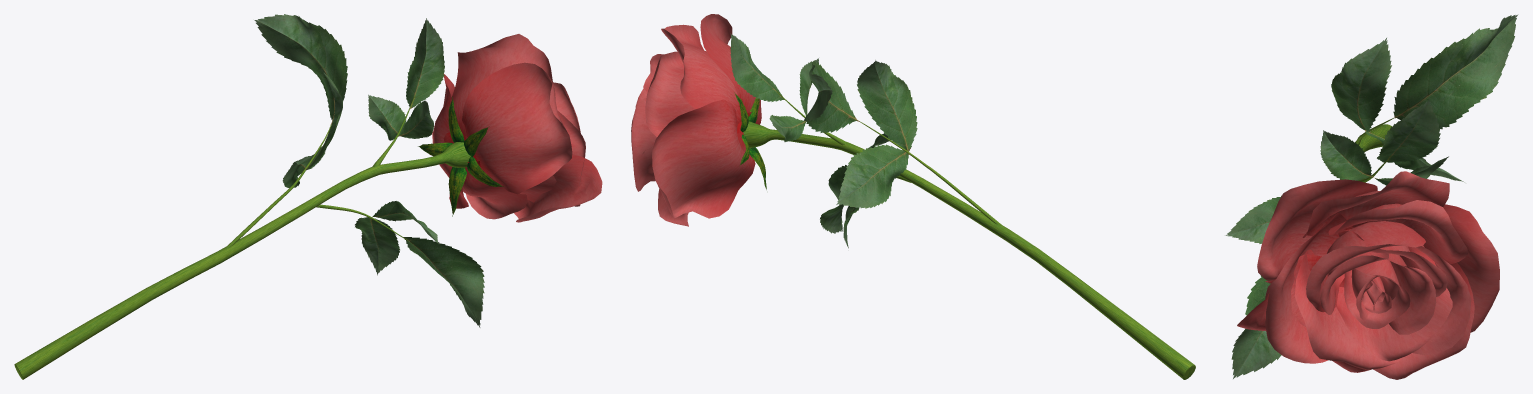
The model's file is SM_Rose.fbx.
The picture shows the model from 3 angles, left to right: view 1: azimuth 30°, elevation 25°; view 2: azimuth 150°, elevation 25°; view 3: azimuth 270°, elevation 25°; orthographic projection. The views are drawn at different scales.
Visible parts, largest first — view 1: RosePetals, RoseFloralLeaf, RoseRoot, RoseCalyx; view 2: RosePetals, RoseFloralLeaf, RoseRoot, RoseCalyx; view 3: RosePetals, RoseFloralLeaf, RoseRoot.
Boxes of the visible parts, x1,y1,x2,y2 form: RosePetals: (432,34,602,222); RoseFloralLeaf: (254,14,484,327); RoseRoot: (14,94,470,379); RoseCalyx: (418,96,503,216); RosePetals: (631,14,761,226); RoseFloralLeaf: (730,33,917,248); RoseRoot: (743,89,1195,379); RoseCalyx: (734,92,766,189); RosePetals: (1237,171,1499,379); RoseFloralLeaf: (1225,14,1518,378); RoseRoot: (1355,118,1393,182).
Size of what is drawn, in the model's own units: 26.58 by 10.47 by 12.06.
